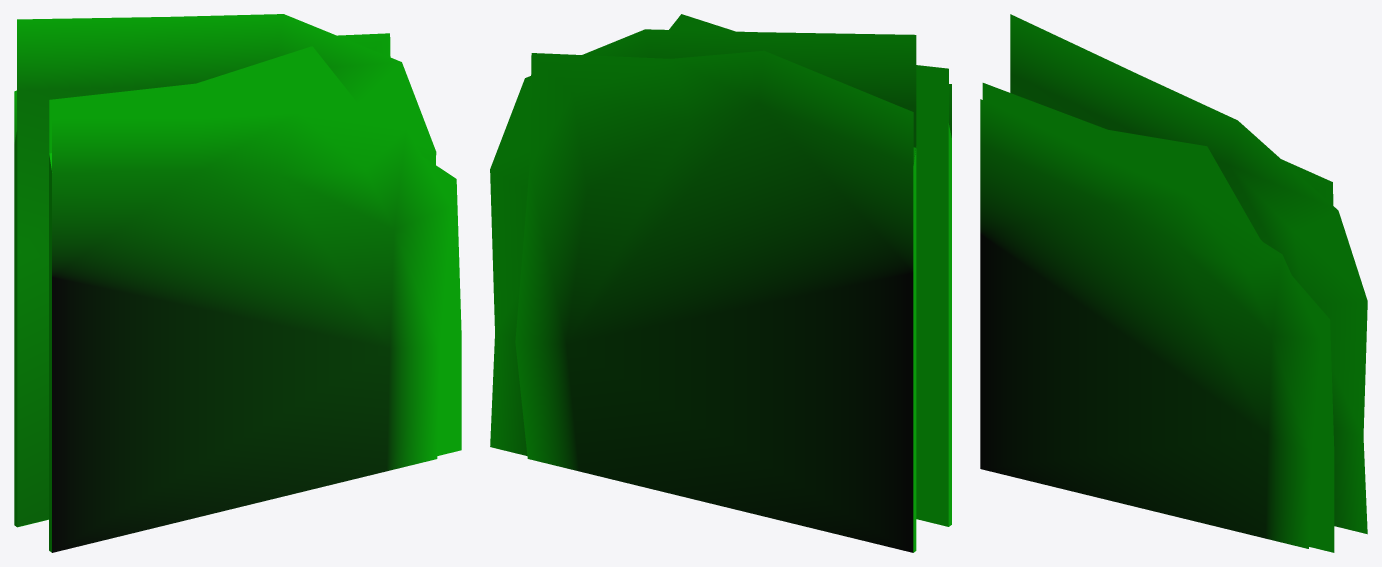
Rendered from DBK_Plywood_End_B.fbx.
3 renders of one model, left to right at view 1: azimuth 30°, elevation 25°; view 2: azimuth 150°, elevation 25°; view 3: azimuth 330°, elevation 25°, orthographic. The views are drawn at different scales.
Parts seen in each view (by area): view 1: DBK_Plywood_End_B; view 2: DBK_Plywood_End_B; view 3: DBK_Plywood_End_B.
Boxes of the visible parts, x1,y1,x2,y2 form: DBK_Plywood_End_B: (14, 14, 461, 552); DBK_Plywood_End_B: (490, 14, 951, 552); DBK_Plywood_End_B: (980, 14, 1367, 552).
Size of what is drawn, in the model's own units: 159 by 184 by 24.98.
